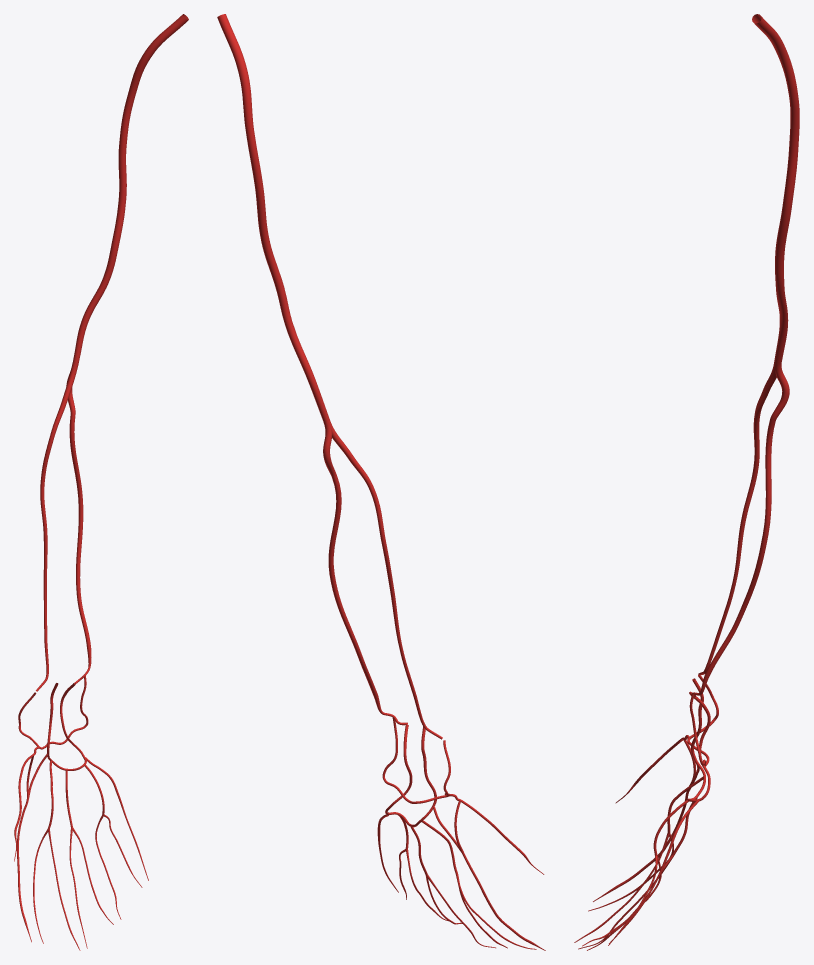
File: circulatorio-brachial-veins-r.glb
3 renders of one model, left to right at view 1: azimuth 30°, elevation 25°; view 2: azimuth 150°, elevation 25°; view 3: azimuth 270°, elevation 25°, orthographic. The views are drawn at different scales.
Parts seen in each view (by area): view 1: Palmar digital veins.r, Brachial veins.r, Radial veins.r, Ulnar veins.r, Superficial venous palmar arch.r, Deep venous palmar arch.r; view 2: Brachial veins.r, Palmar digital veins.r, Ulnar veins.r, Radial veins.r, Superficial venous palmar arch.r; view 3: Brachial veins.r, Palmar digital veins.r, Ulnar veins.r, Radial veins.r, Superficial venous palmar arch.r, Deep venous palmar arch.r.
Boxes of the visible parts, x1=… form: Palmar digital veins.r: x1=14, y1=746, x2=148, y2=950; Brachial veins.r: x1=73, y1=14, x2=188, y2=363; Radial veins.r: x1=36, y1=362, x2=78, y2=691; Ulnar veins.r: x1=66, y1=362, x2=91, y2=684; Superficial venous palmar arch.r: x1=47, y1=683, x2=86, y2=770; Deep venous palmar arch.r: x1=18, y1=675, x2=88, y2=749; Brachial veins.r: x1=217, y1=14, x2=329, y2=421; Palmar digital veins.r: x1=377, y1=793, x2=545, y2=950; Ulnar veins.r: x1=323, y1=420, x2=407, y2=725; Radial veins.r: x1=323, y1=420, x2=442, y2=739; Superficial venous palmar arch.r: x1=385, y1=724, x2=436, y2=827; Brachial veins.r: x1=752, y1=14, x2=799, y2=364; Palmar digital veins.r: x1=574, y1=735, x2=703, y2=950; Ulnar veins.r: x1=689, y1=363, x2=789, y2=696; Radial veins.r: x1=698, y1=362, x2=779, y2=675; Superficial venous palmar arch.r: x1=686, y1=678, x2=710, y2=801; Deep venous palmar arch.r: x1=687, y1=675, x2=718, y2=766.
Bounding box in the file's own units: 0.1744 × 0.6036 × 0.119.
